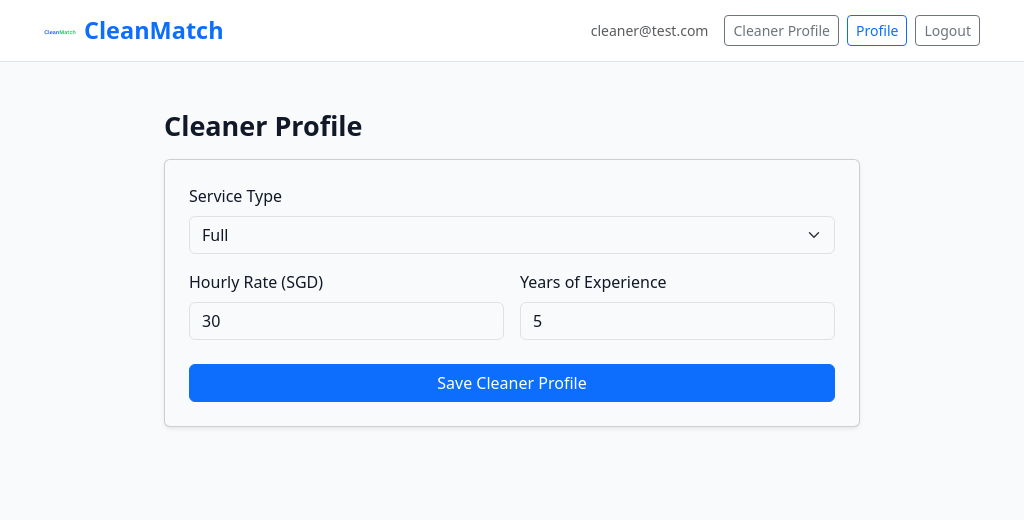
Test: CleanerProfilePage › shows error for negative years of experience
Check: the button "Save Cleaner Profile" is shown, box top-left (189, 364), bottom-right (835, 402)
Replace the text in the field with placeholder "e.g. 2" below "Years of Experience" with "-1" at (678, 320), box top-left (520, 302), bottom-right (835, 340)
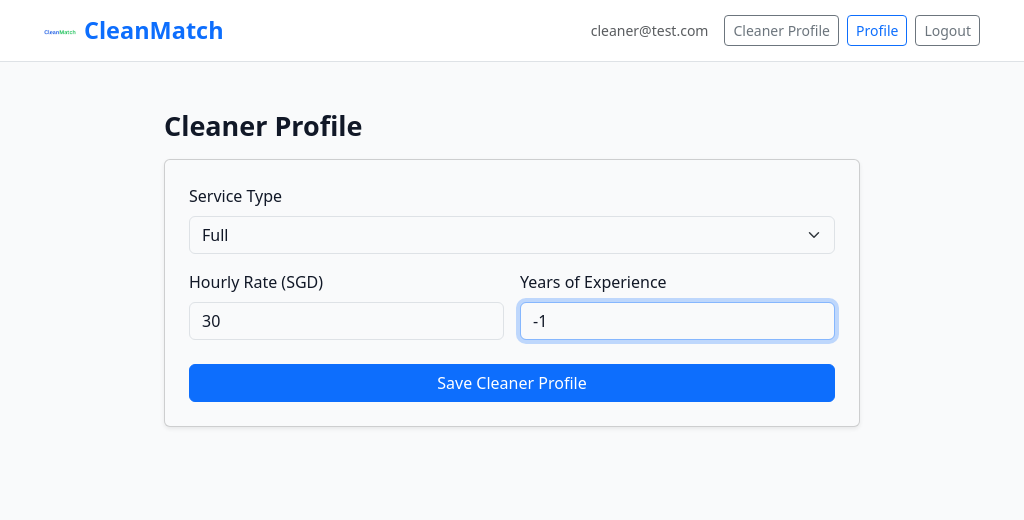
Submit the form, box top-left (164, 158), bottom-right (860, 426)
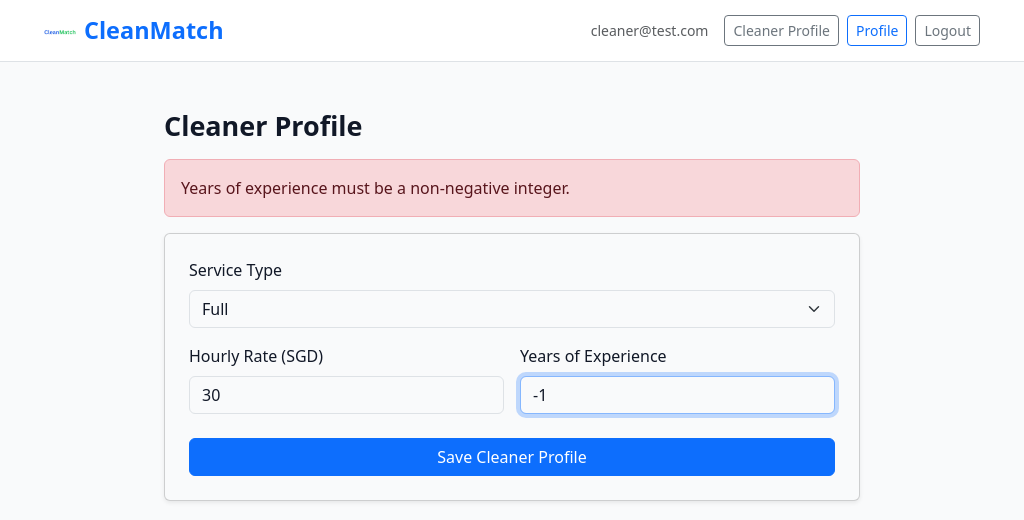
Check: the text "Years of experience must be a non-negative integer." is shown, box top-left (164, 158), bottom-right (860, 216)
